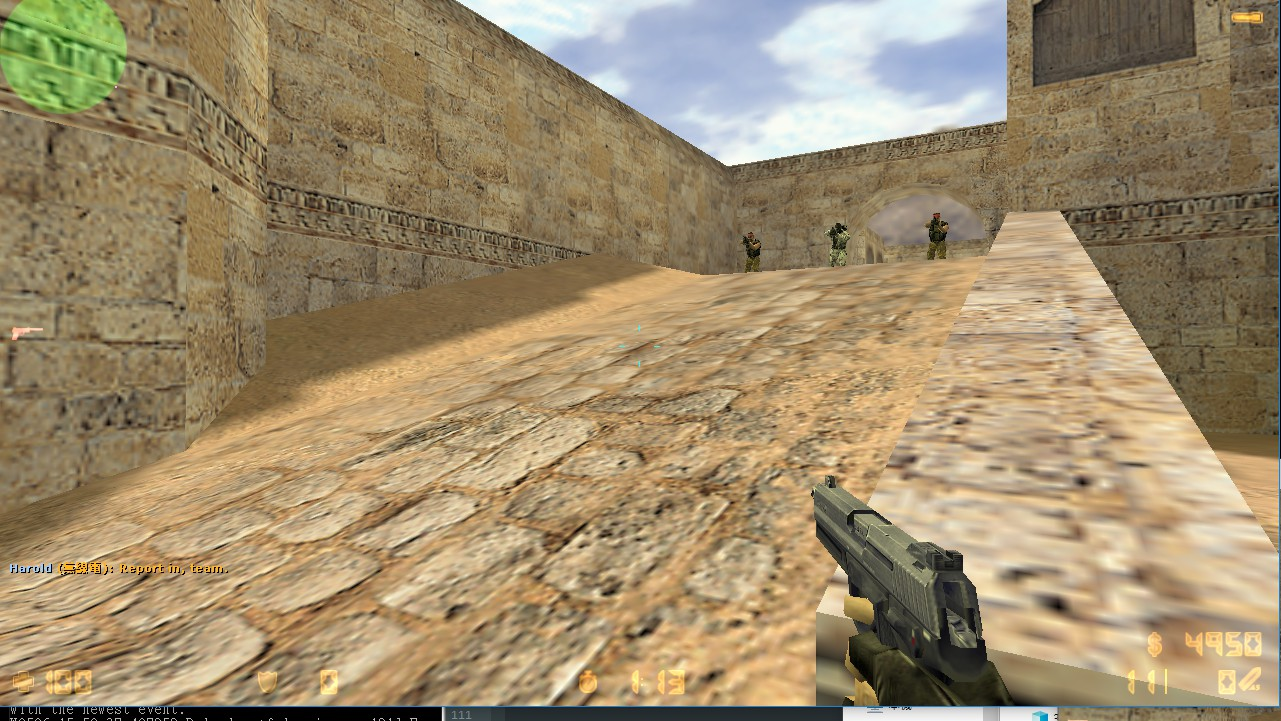person: (819, 214, 851, 268), (919, 206, 949, 258), (738, 228, 764, 273)
